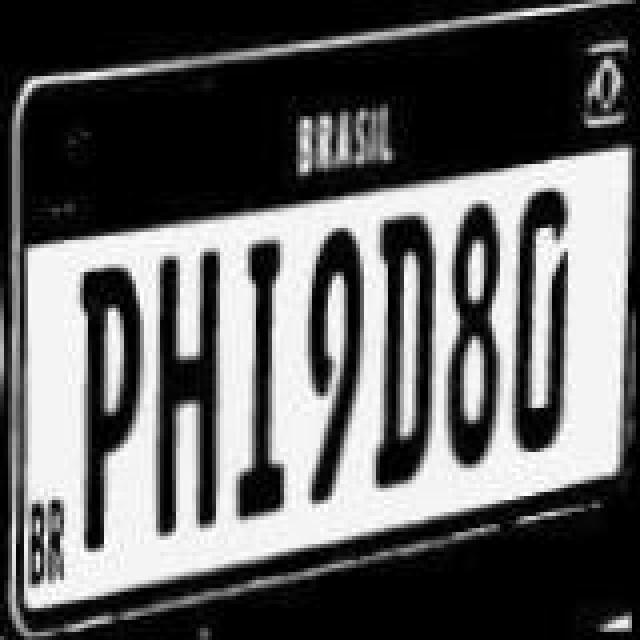8: (436, 204, 516, 476)
9: (292, 224, 372, 508)
D: (508, 182, 588, 458), (372, 210, 444, 494)
H: (150, 246, 230, 538)
I: (228, 236, 296, 520)
P: (76, 260, 152, 556)
